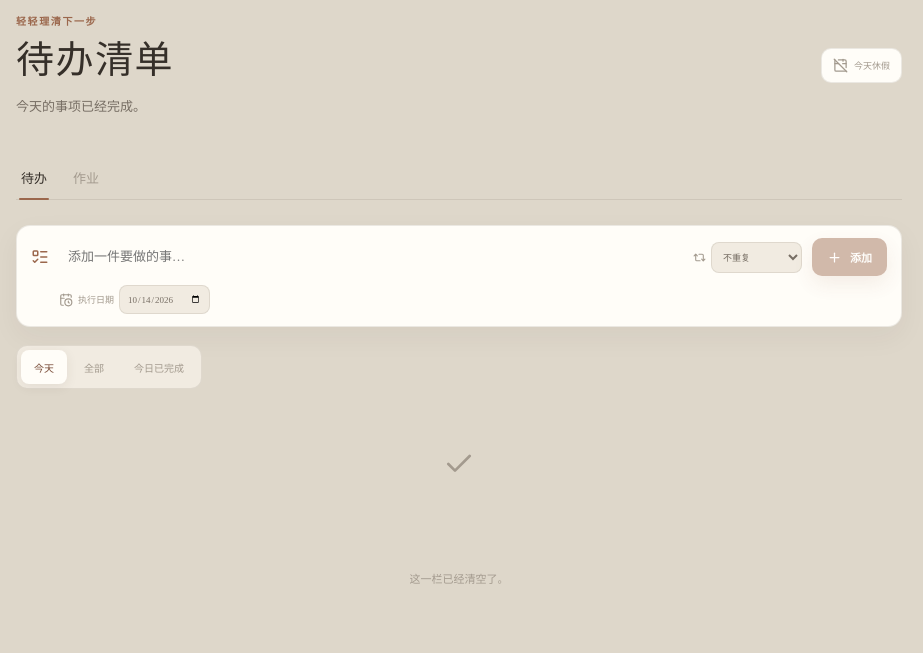
it: minimal assignment paper UI › adds a weekly assignment using only course and weekday, hiding optional fields
Click the button "作业".
click(86, 178)  # box x1=71 y1=156 x2=101 y2=199
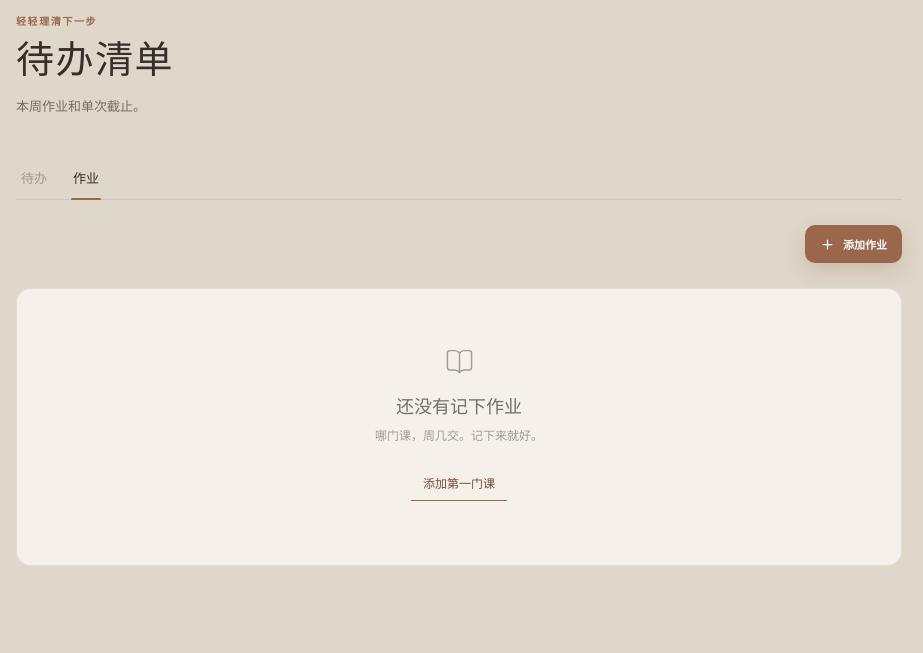
Expected: the heading "还没有记下作业" is shown, x1=396 y1=392 x2=522 y2=418
Click the button "添加作业".
click(854, 244)  # box x1=805 y1=225 x2=902 y2=263
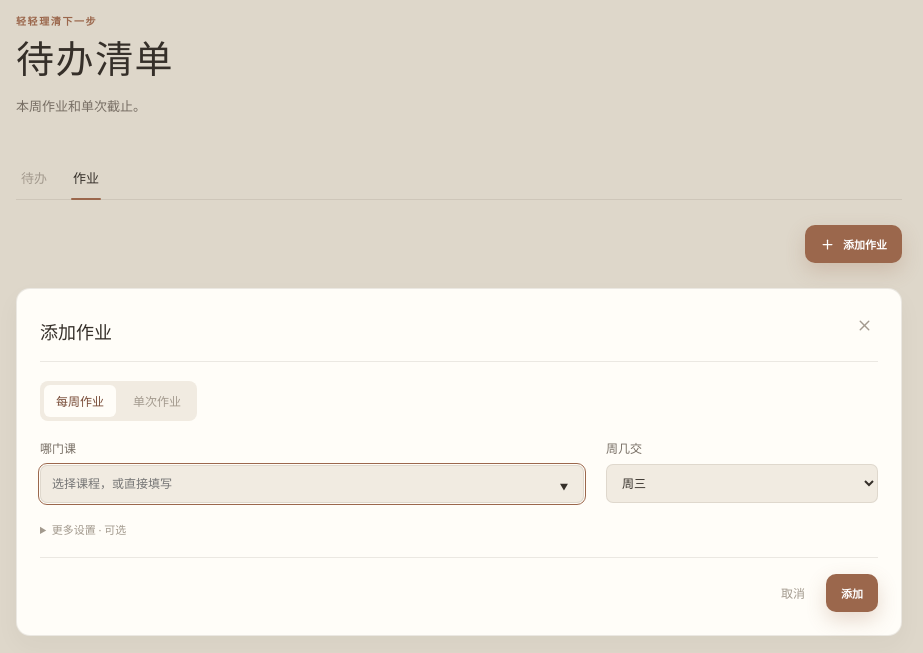
Type "物理" into the field labelled "哪门课".
click(312, 484); type("物理")  # box x1=40 y1=465 x2=584 y2=503
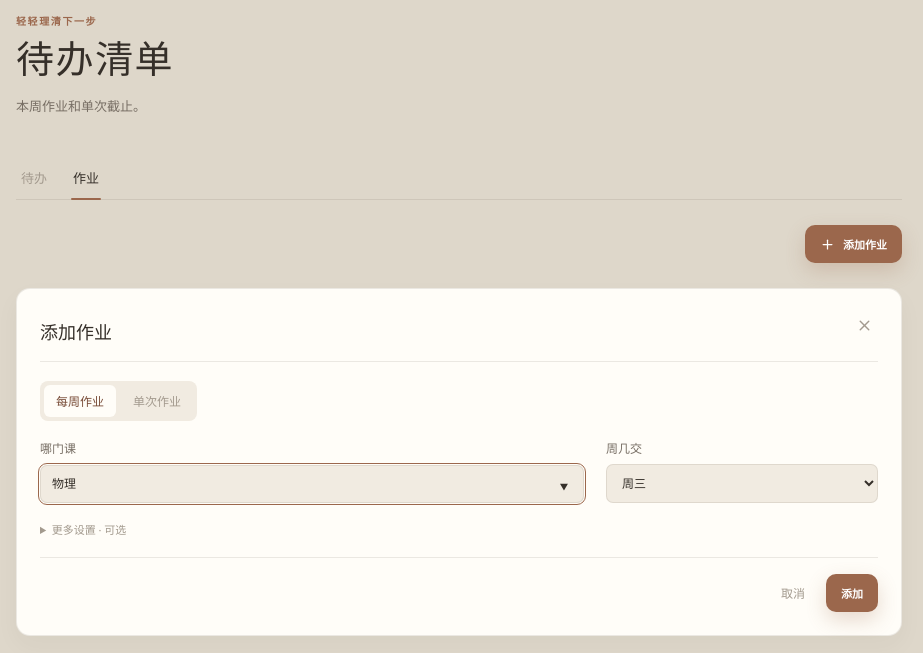
Select "5" in the dropdown labelled "周几交" at (742, 484), box x1=606 y1=464 x2=878 y2=503
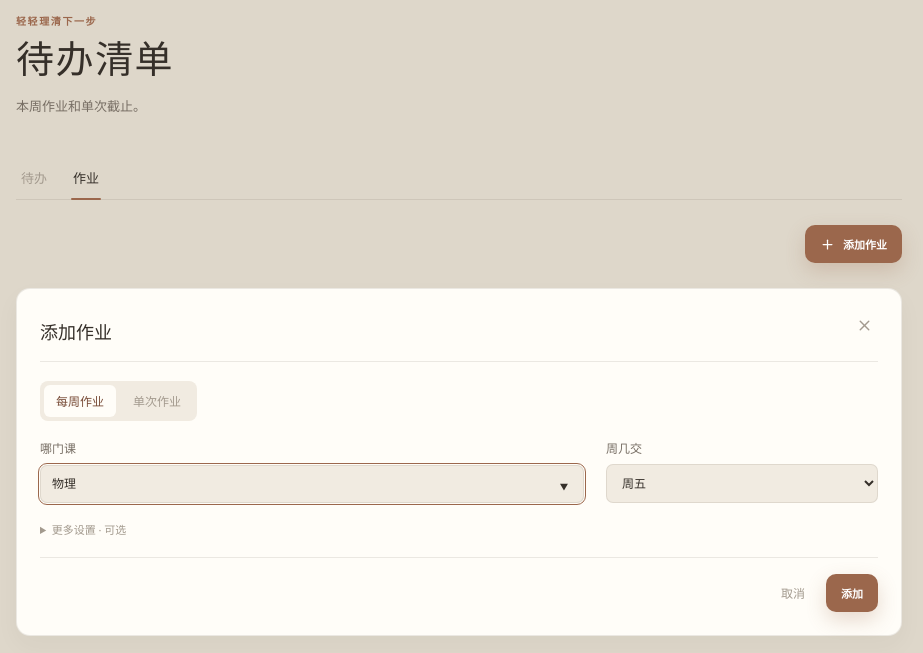
Submit the form named "新增作业", box x1=16 y1=288 x2=902 y2=636
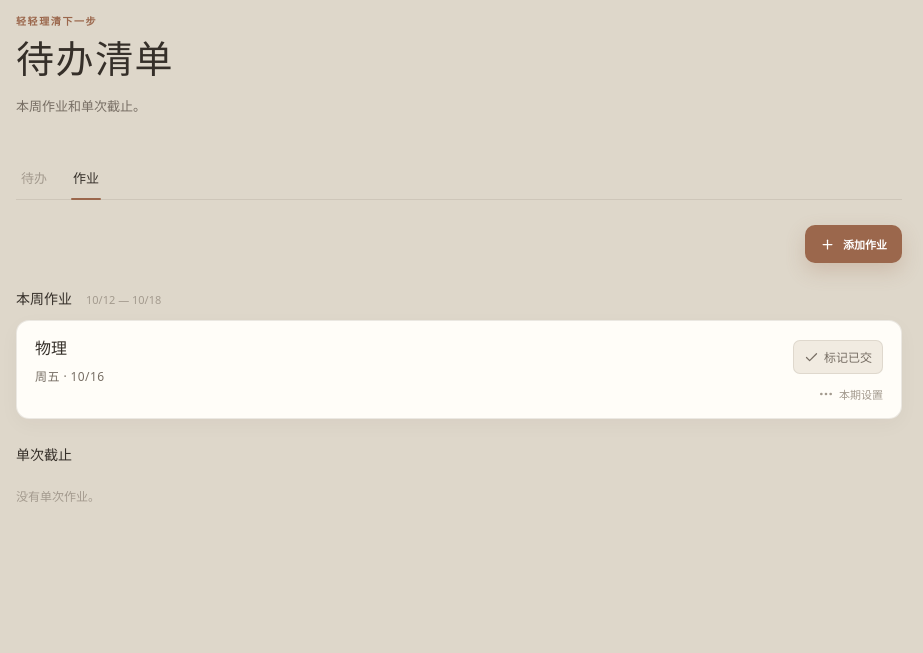
Expected: the heading "物理" is shown, x1=35 y1=340 x2=67 y2=357
